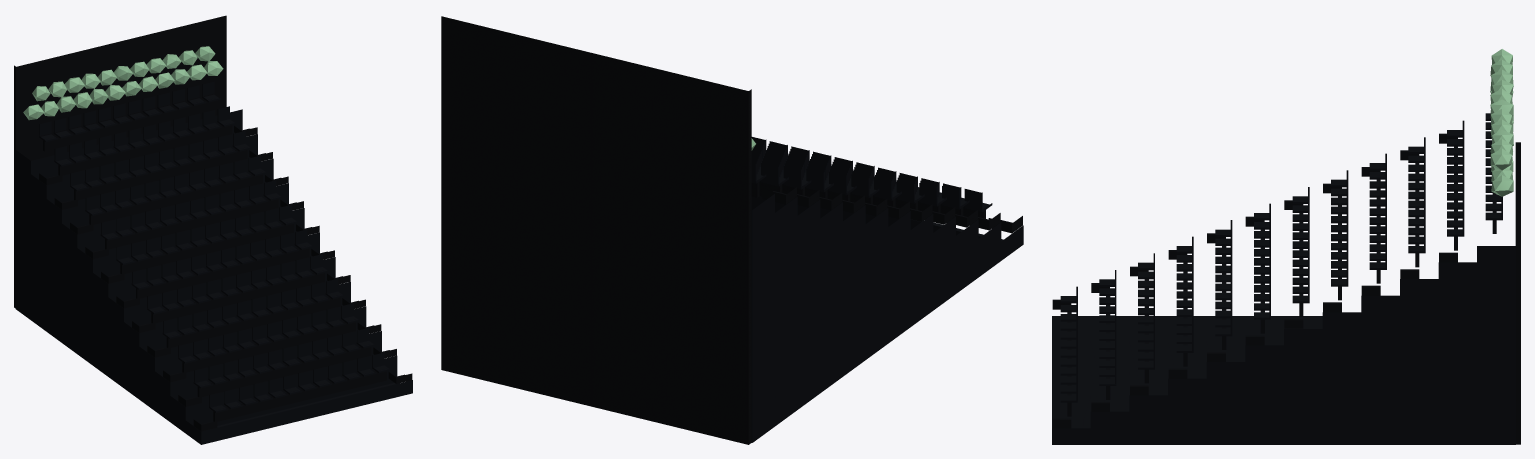
3 renders of one model, left to right at view 1: azimuth 30°, elevation 25°; view 2: azimuth 150°, elevation 25°; view 3: azimuth 270°, elevation 25°, orthographic. The views are drawn at different scales.
Parts seen in each view (by area): view 1: Tier_Concrete, Seat_Backs, Seat_Beams, Seat_Pans, Screen_Frame, Screen_Green, Aisle_Steps; view 2: Screen_Frame, Tier_Concrete, Seat_Backs, Aisle_Steps, Seat_Beams, Seat_Pans; view 3: Tier_Concrete, Seat_Pans, Aisle_Steps, Screen_Green, Seat_Backs, Seat_Beams, Screen_Frame.
Boxes of the visible parts, bbox=[...] form: Tier_Concrete: bbox=[15, 109, 412, 444]; Seat_Backs: bbox=[39, 81, 384, 406]; Seat_Beams: bbox=[43, 99, 386, 421]; Seat_Pans: bbox=[39, 94, 391, 412]; Screen_Frame: bbox=[14, 15, 226, 308]; Screen_Green: bbox=[23, 46, 223, 120]; Aisle_Steps: bbox=[39, 126, 412, 431]; Screen_Frame: bbox=[441, 16, 751, 444]; Tier_Concrete: bbox=[751, 194, 1023, 442]; Seat_Backs: bbox=[751, 137, 982, 210]; Aisle_Steps: bbox=[762, 187, 1022, 233]; Seat_Beams: bbox=[751, 179, 985, 218]; Seat_Pans: bbox=[751, 150, 992, 212]; Tier_Concrete: bbox=[1052, 246, 1515, 444]; Seat_Pans: bbox=[1060, 113, 1502, 402]; Aisle_Steps: bbox=[1052, 133, 1457, 428]; Screen_Green: bbox=[1490, 49, 1513, 196]; Seat_Backs: bbox=[1076, 120, 1502, 400]; Seat_Beams: bbox=[1067, 146, 1496, 416]; Screen_Frame: bbox=[1515, 142, 1520, 444].
Size of the model in its own units: 7.5 by 8.2 by 11.52.
Materials: 3 (2 with a texture image).
